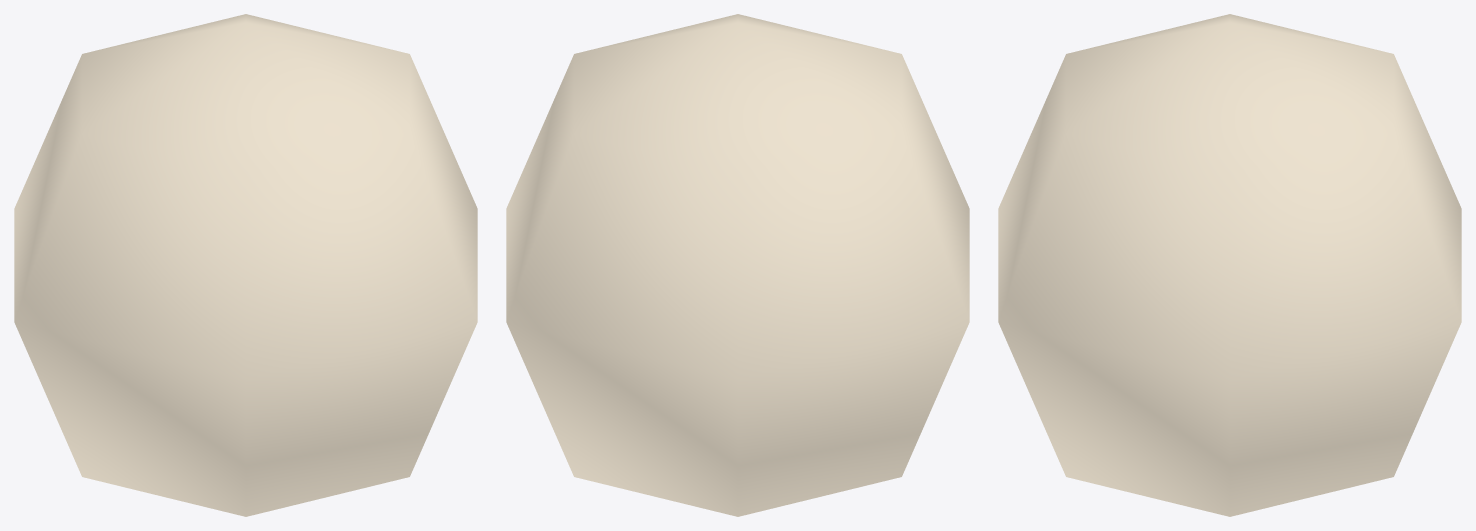
The model's file is foam.glb.
3 renders of one model, left to right at view 1: azimuth 30°, elevation 25°; view 2: azimuth 150°, elevation 25°; view 3: azimuth 270°, elevation 25°, orthographic.
Visible parts, largest first — view 1: foam_m0; view 2: foam_m0; view 3: foam_m0.
Part boxes in pixels (<box>): foam_m0: <box>14,14,477,516</box>; foam_m0: <box>506,14,969,516</box>; foam_m0: <box>998,14,1461,516</box>.
Bounding box in the file's own units: 0.1 × 0.1 × 0.0866.
